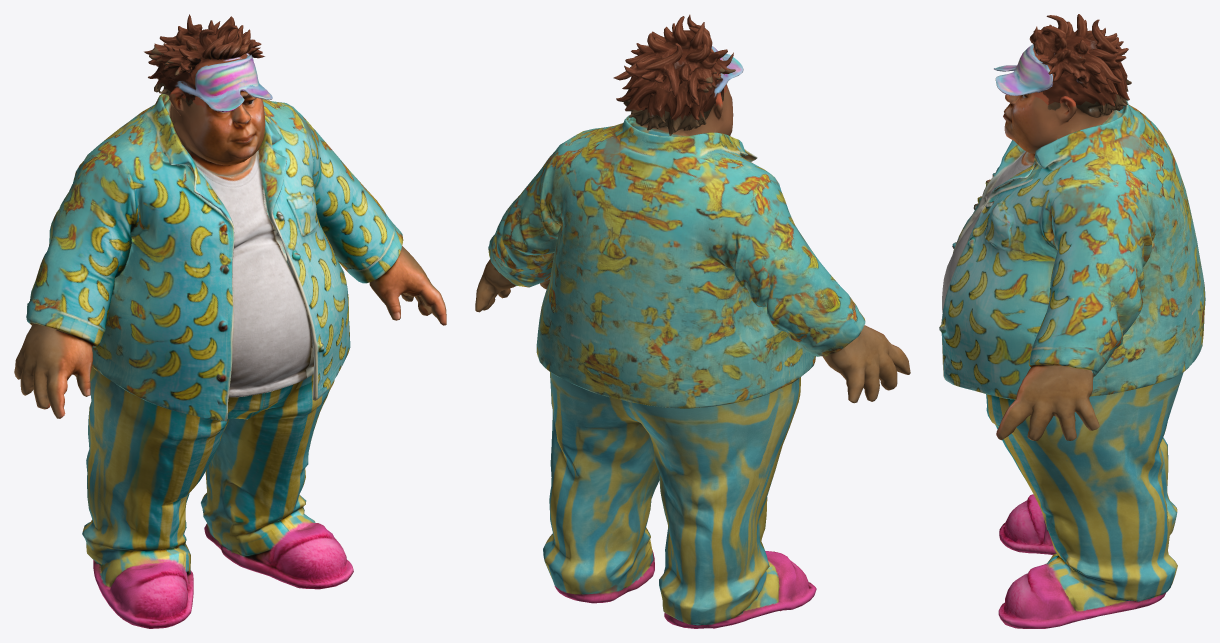
Rendered from diner-patron-insomniac_body.glb.
3 renders of one model, left to right at view 1: azimuth 30°, elevation 25°; view 2: azimuth 150°, elevation 25°; view 3: azimuth 270°, elevation 25°, orthographic.
Visible parts, largest first — view 1: diner-patron-insomniac; view 2: diner-patron-insomniac; view 3: diner-patron-insomniac.
Boxes of the visible parts, x1,y1,x2,y2 form: diner-patron-insomniac: (14, 14, 446, 628); diner-patron-insomniac: (475, 14, 910, 628); diner-patron-insomniac: (939, 14, 1205, 628).
Bounding box in the file's own units: 1.34 × 1.8 × 0.7813.
2 materials, 2 textured.
